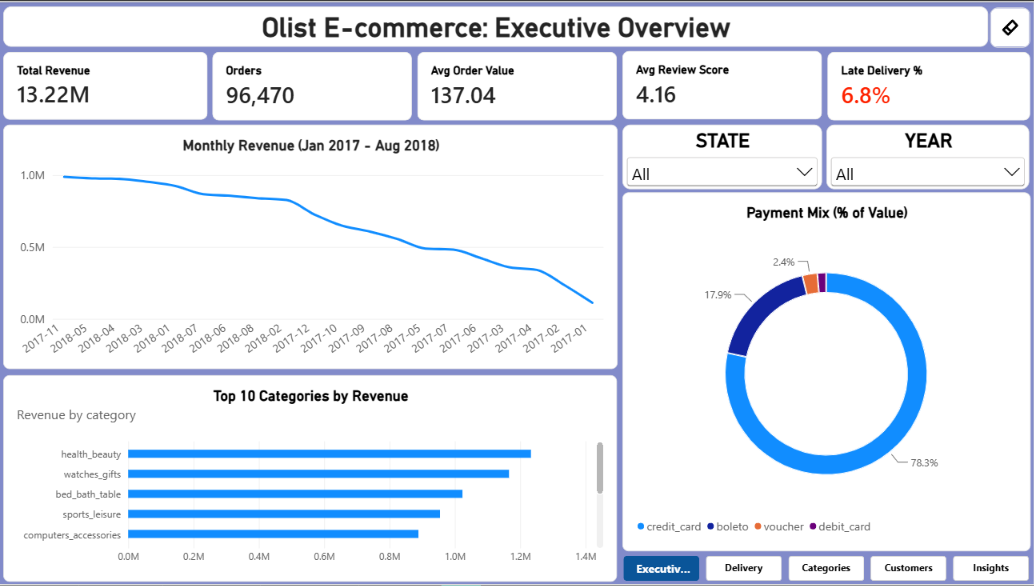

The dashboard page shown, as its layout file describes it:
{"tool":"powerbi","page":{"name":"Executive Overview","canvas":[1280,720],"ordinal":0},"visuals":[{"type":"cardVisual","fields":{"Data":["_measures.Revenue"]},"box":[4.5,60.9,253.2,84.9],"z":0},{"type":"cardVisual","fields":{"Data":["_measures.Orders"]},"box":[264.3,60.9,247,85],"z":1000},{"type":"cardVisual","fields":{"Data":["_measures.Avg Order Value"]},"box":[517.5,60.9,247,85],"z":2000},{"type":"cardVisual","fields":{"Data":["_measures.Avg Review Score"]},"box":[771.7,60.4,247,85],"z":3000},{"type":"cardVisual","fields":{"Data":["_measures.Late Delivery %"]},"box":[1024.7,60.9,251.1,85.1],"z":4000},{"type":"lineChart","title":"Monthly Revenue (Jan 2017 - Aug 2018)","fields":{"Category":["Dim_Date.Year-Month"],"Y":["_measures.Revenue"]},"box":[4.5,151,760.3,302.6],"z":5000},{"type":"barChart","title":"Top 10 Categories by Revenue","fields":{"Category":["fact_items.category"],"Y":["_measures.Revenue"]},"box":[4.5,461.2,759.9,255.4],"z":6000},{"type":"donutChart","title":"Payment Mix (% of Value)","fields":{"Category":["agg_payment_mix.payment_type"],"Y":["Sum(agg_payment_mix.value_share_pct)"]},"box":[771,235.5,505.1,444.7],"z":7000},{"type":"slicer","title":"YEAR","fields":{"Values":["Dim_Date.Year"]},"box":[1024.3,150.7,251.4,80],"z":8000},{"type":"slicer","title":"STATE","fields":{"Values":["agg_state_delivery.customer_state"]},"box":[770.7,150.7,247.1,80],"z":9000},{"type":"textbox","title":"Olist E-commerce: Executive Overview","box":[4.4,5.6,1218.9,50],"z":10000},{"type":"pageNavigator","box":[772.2,684.8,503.8,31.6],"z":11000},{"type":"actionButton","box":[1225.8,5.7,50,50],"z":12000}]}

Visuals, with their boxes in screenshot pixels (x1, y1, x2, y2), scaled from the page's 1280x720 canvas onto the 1034x586 screenshot:
cardVisual - _measures.Revenue: locate(4, 50, 208, 119)
cardVisual - _measures.Orders: locate(214, 50, 413, 119)
cardVisual - _measures.Avg Order Value: locate(418, 50, 618, 119)
cardVisual - _measures.Avg Review Score: locate(623, 49, 823, 118)
cardVisual - _measures.Late Delivery %: locate(828, 50, 1031, 119)
"Monthly Revenue (Jan 2017 - Aug 2018)" lineChart: locate(4, 123, 618, 369)
"Top 10 Categories by Revenue" barChart: locate(4, 375, 617, 583)
"Payment Mix (% of Value)" donutChart: locate(623, 192, 1031, 554)
"YEAR" slicer: locate(827, 123, 1031, 188)
"STATE" slicer: locate(623, 123, 822, 188)
"Olist E-commerce: Executive Overview" textbox: locate(4, 5, 988, 45)
pageNavigator: locate(624, 557, 1031, 583)
actionButton: locate(990, 5, 1031, 45)
